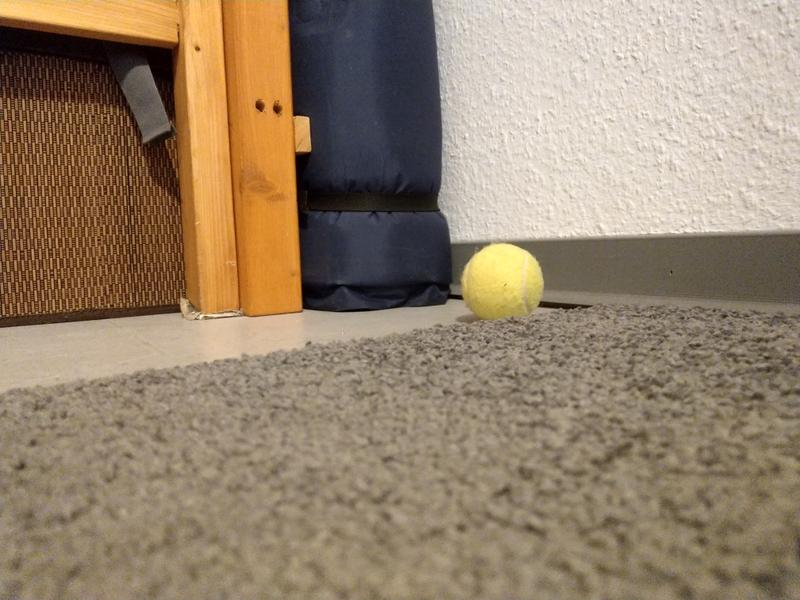Tennisball: (458, 239, 546, 325)
